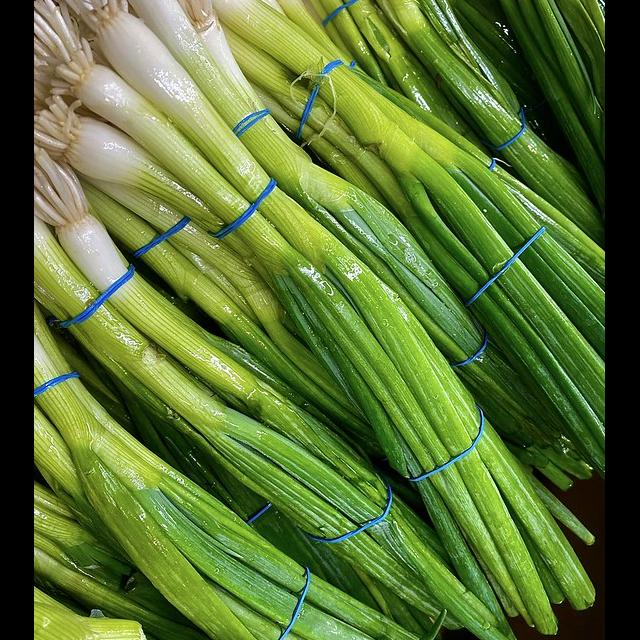green_onion: (36, 0, 600, 634), (34, 220, 513, 640), (36, 150, 384, 502), (322, 66, 606, 467), (142, 242, 330, 398), (498, 438, 594, 632), (214, 0, 330, 74), (86, 186, 156, 249), (510, 558, 558, 634)
